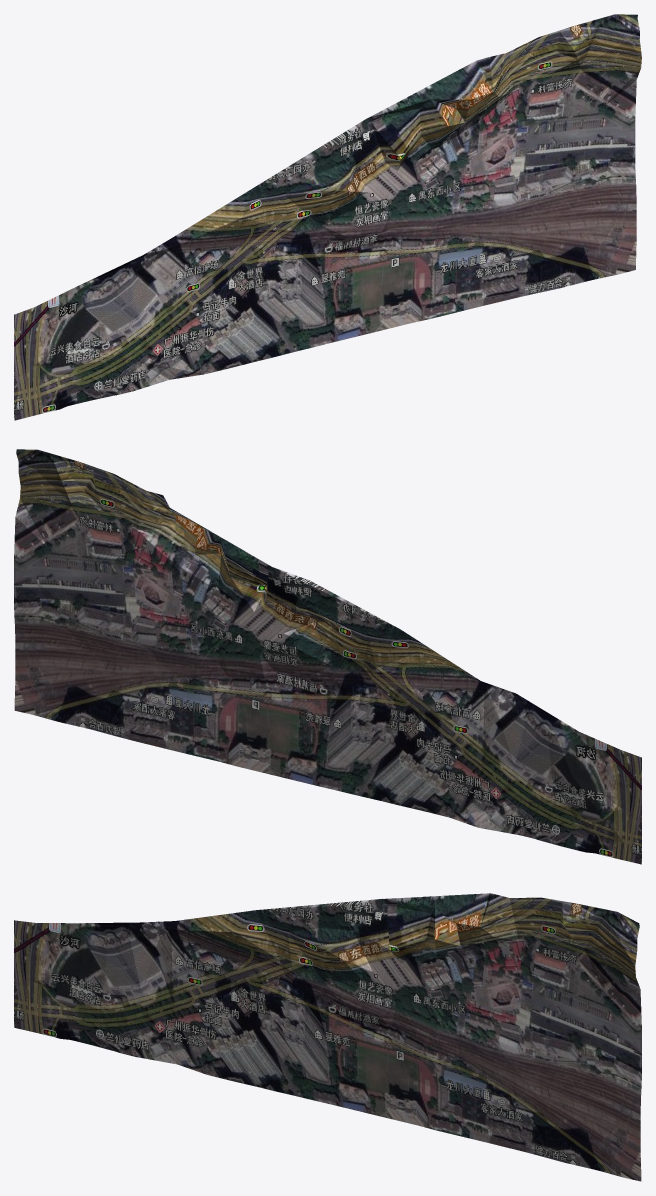
3 renders of one model, top to bottom at view 1: azimuth 30°, elevation 25°; view 2: azimuth 150°, elevation 25°; view 3: azimuth 330°, elevation 25°, orthographic.
Visible parts, largest first — view 1: 0_1_0_2_3; view 2: 0_1_0_2_3; view 3: 0_1_0_2_3.
Boxes of the visible parts, x1=… form: 0_1_0_2_3: x1=14, y1=14, x2=641, y2=420; 0_1_0_2_3: x1=14, y1=449, x2=641, y2=864; 0_1_0_2_3: x1=14, y1=893, x2=641, y2=1181.
Bounding box in the file's own units: 972 × 392 × 41.9.
Materials: 1 (1 with a texture image).
